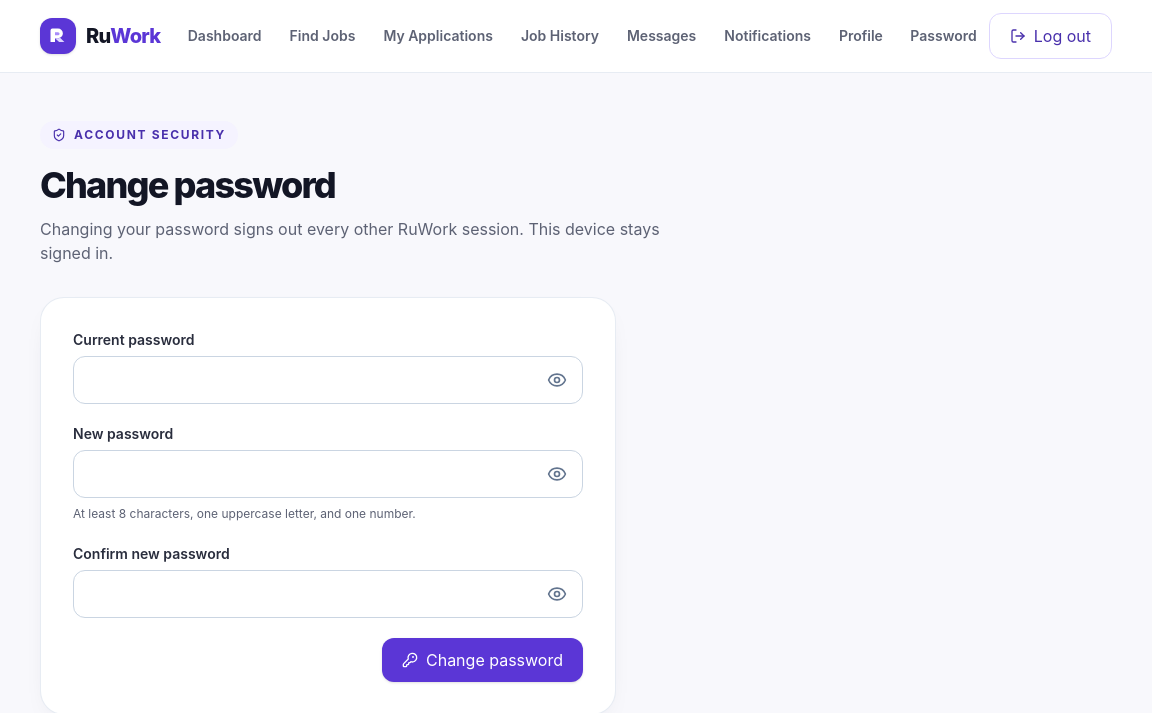
Phase 10 password lifecycle and session hardening › surfaces a failed password change without clearing the session
Type "WrongPass1" into the password field labelled "Current password" at {"x": 328, "y": 380}, box [73, 356, 583, 404]
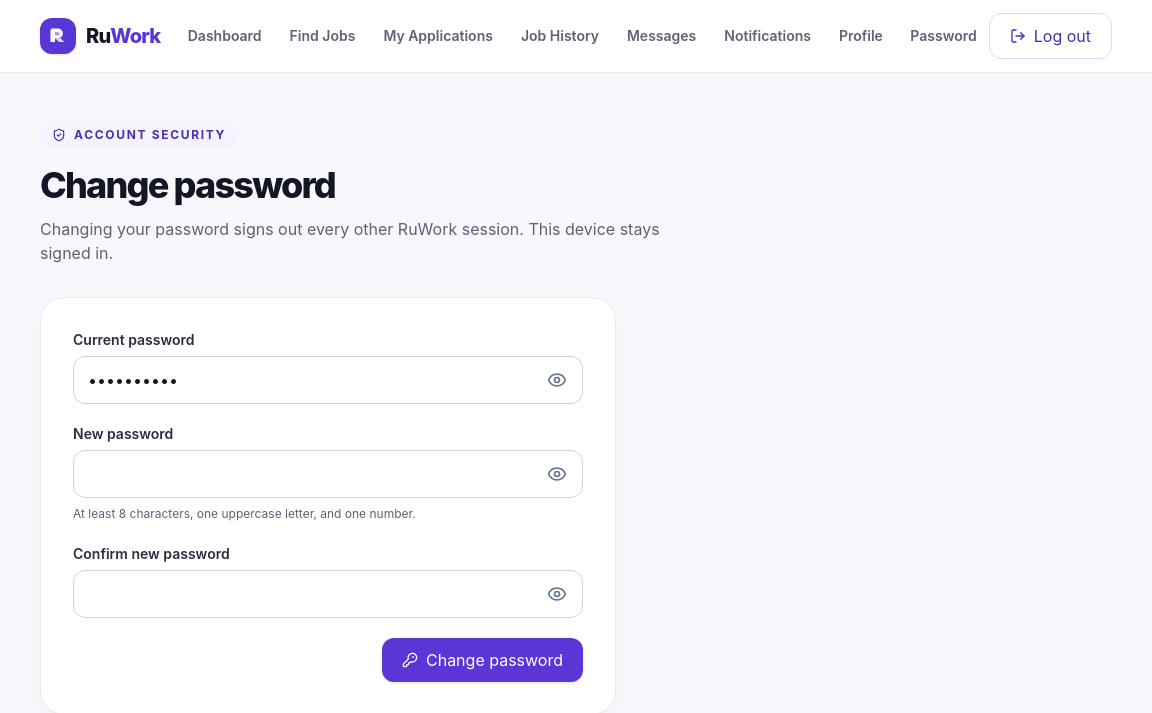
Type "BrandNew1" into the password field labelled "New password" at {"x": 328, "y": 474}, box [73, 450, 583, 498]
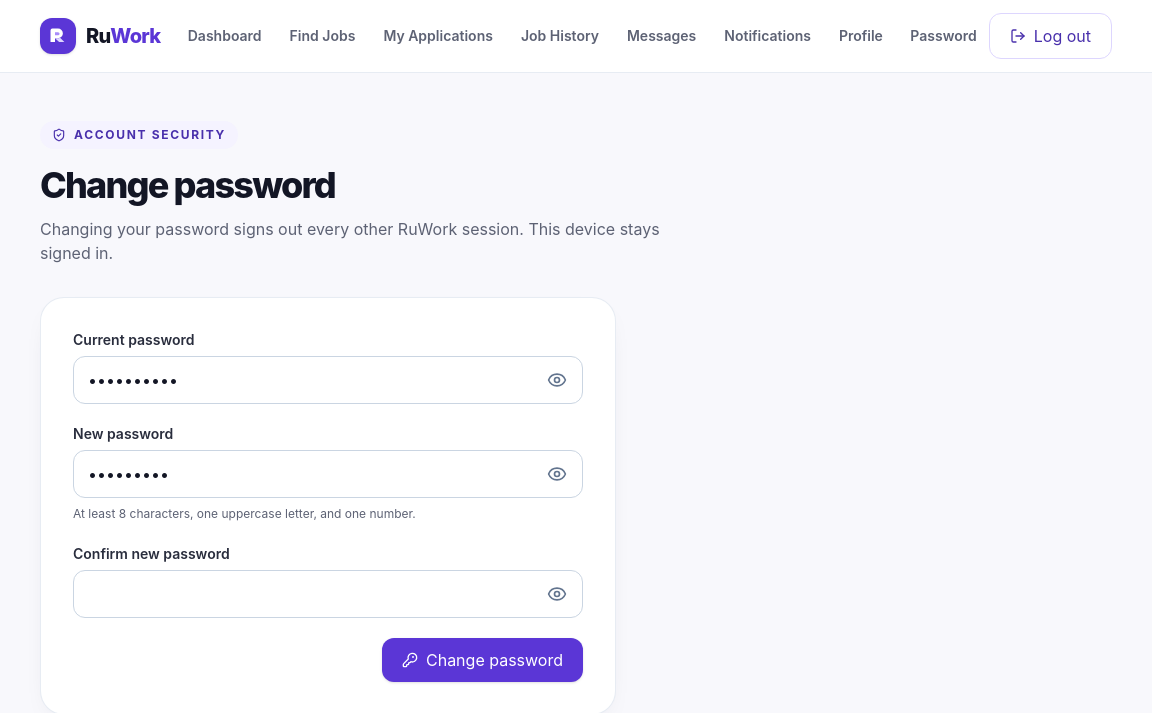
Type "BrandNew1" into the password field labelled "Confirm new password" at {"x": 328, "y": 594}, box [73, 570, 583, 618]
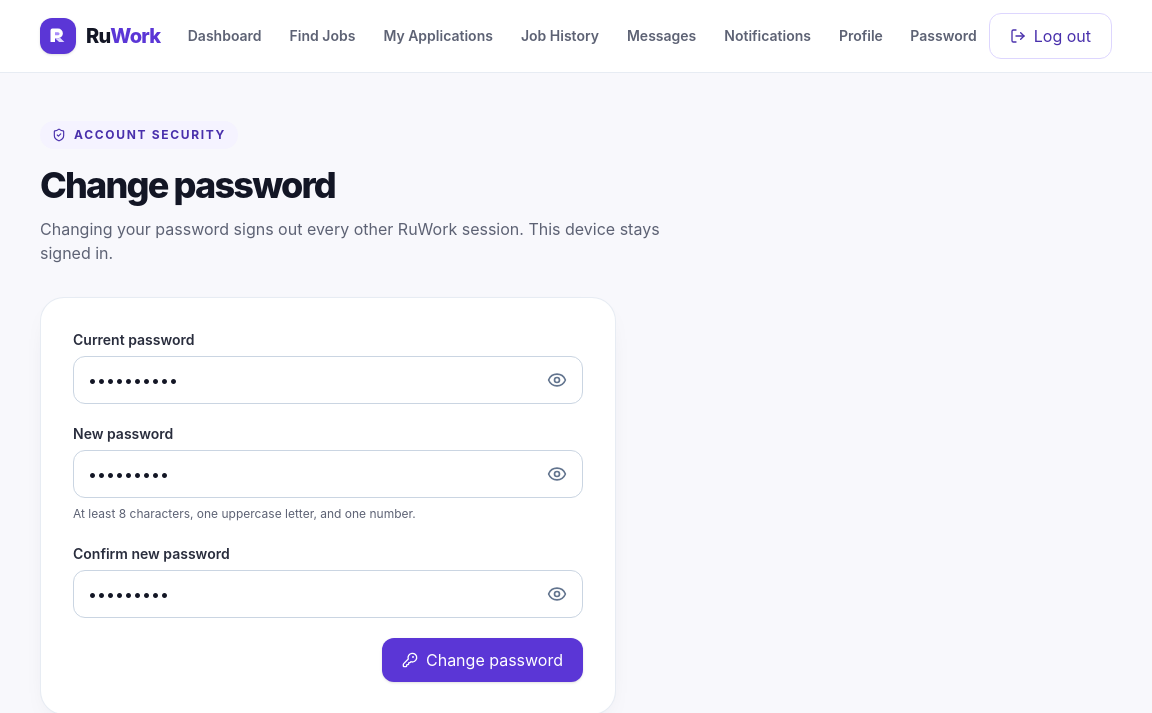
Click the button "Change password" at {"x": 482, "y": 660}, box [382, 638, 583, 682]
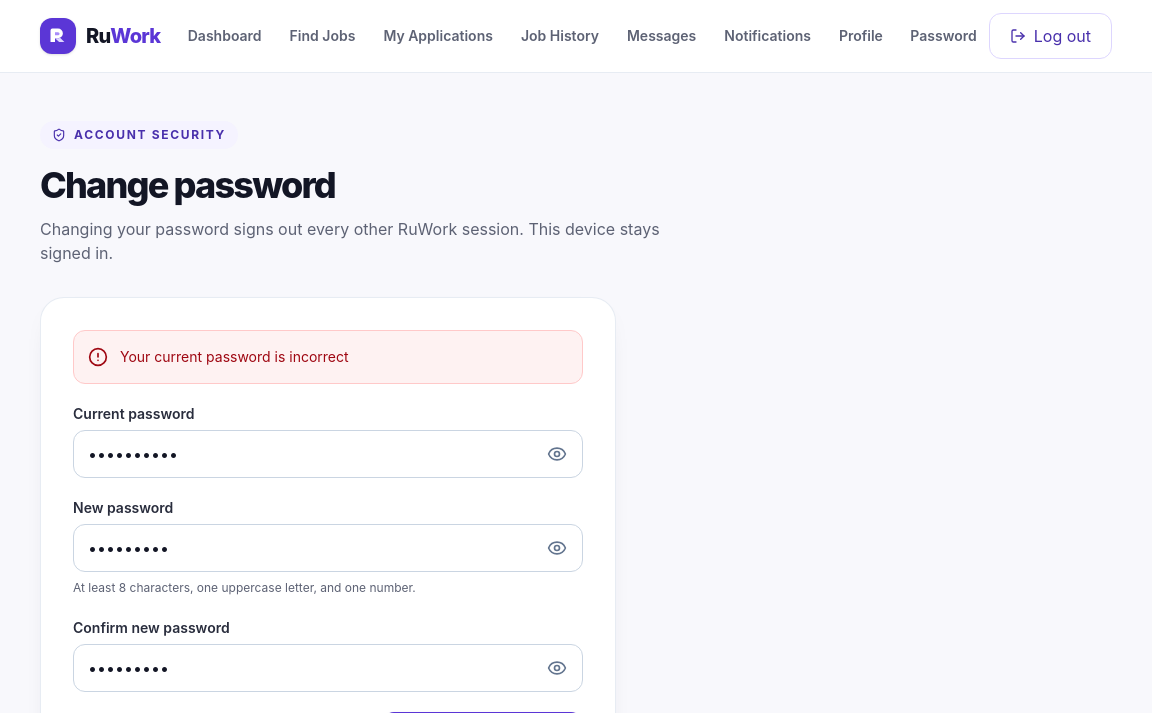
expect the text "Your current password is incorrect" is shown: met, box [120, 345, 349, 369]
